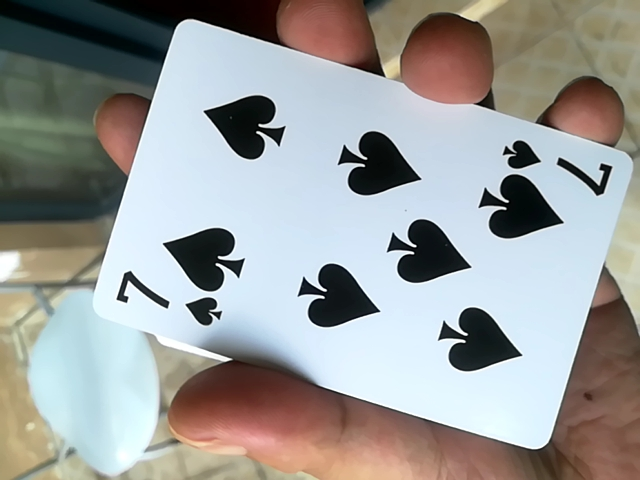ht 7: (81, 25, 627, 454)
